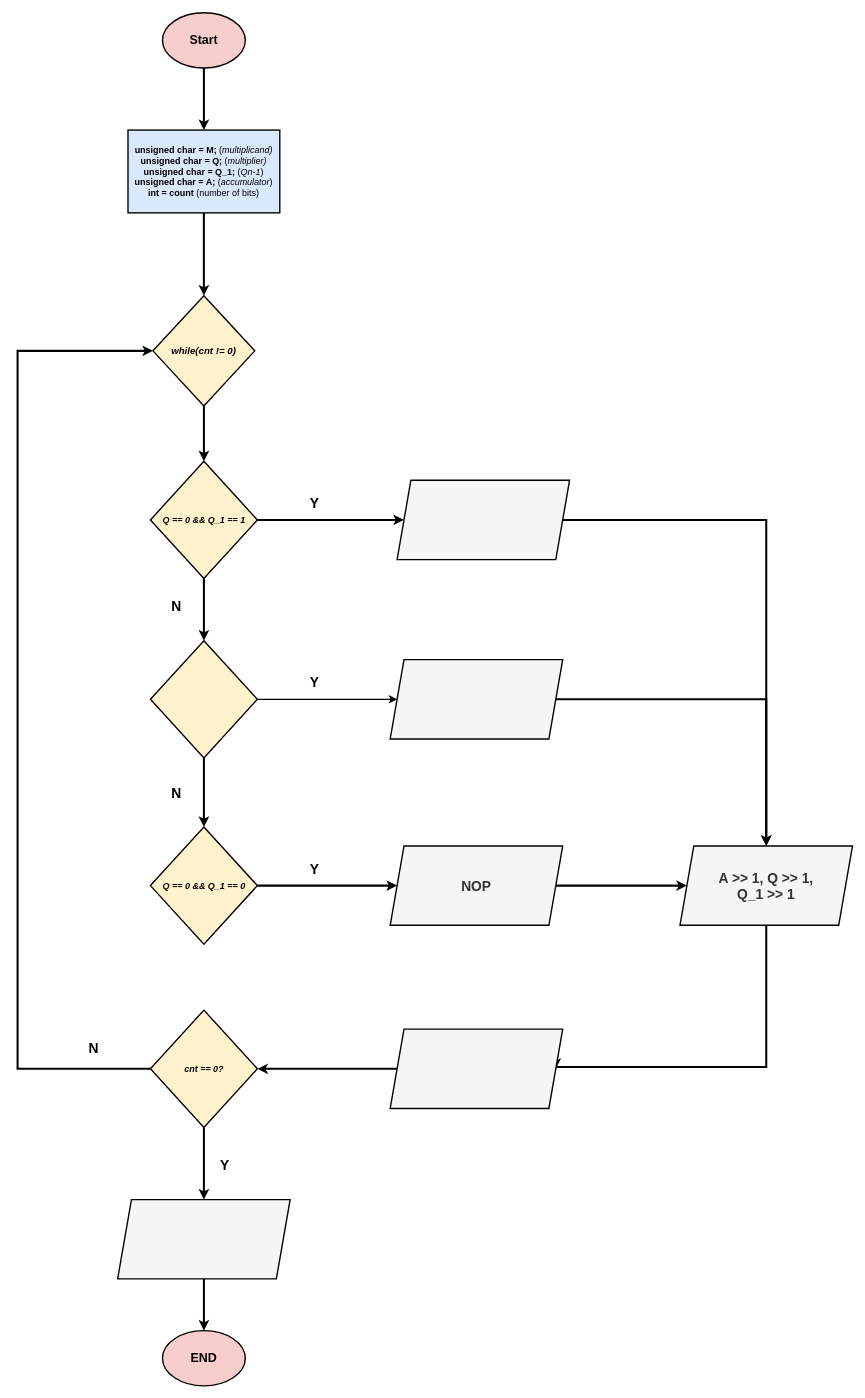
Image size: 865x1398. Some labels were removed from this diagram. The centre of each missing label's shape, as x and y in pixels:
A = A+M: the point at 483,519
cnt--;: the point at 476,1068
dispBin(A,16): the point at 203,1239
M = twosComplement(M) A = A+M: the point at 476,699
Q == 1 && Q_1 == 0: the point at 203,699
